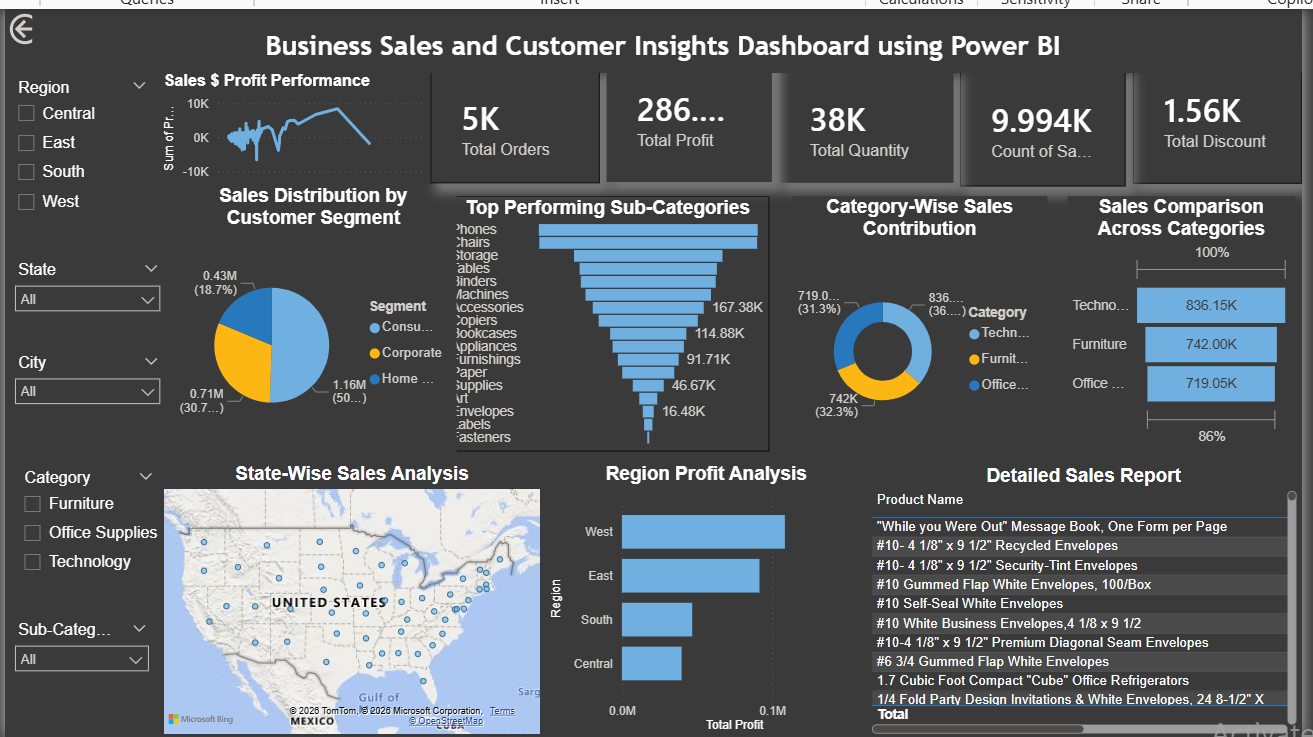

This screenshot's page, from the dashboard's own definition file:
{"tool":"powerbi","page":{"name":"Page 2","canvas":[1280,720],"ordinal":0},"visuals":[{"type":"slicer","fields":{"Values":["Sample - Superstore (2).State"]},"box":[0,243.3,163.3,91.7],"z":1000},{"type":"actionButton","box":[0,0,100,40],"z":2000},{"type":"slicer","fields":{"Values":["Sample - Superstore (2).City"]},"box":[0,335,163.3,66.7],"z":3000},{"type":"slicer","fields":{"Values":["Sample - Superstore (2).Category"]},"box":[6.7,448.3,151.7,121.7],"z":4000},{"type":"slicer","fields":{"Values":["Sample - Superstore (2).Sub-Category"]},"box":[0,598.3,151.7,100],"z":5000},{"type":"funnel","title":"Top Performing Sub-Categories","fields":{"Category":["Sample - Superstore (2).Sub-Category"],"Y":["Sum(Sample - Superstore (2).Sales)"]},"box":[435,185,320,251.7],"z":7000},{"type":"map","title":"State-Wise Sales Analysis","fields":{"Category":["Sample - Superstore (2).State"]},"box":[151.7,448.3,381.7,271.7],"z":8000},{"type":"pieChart","title":"Sales Distribution by Customer Segment","fields":{"Category":["Sample - Superstore (2).Segment"],"Y":["Sum(Sample - Superstore (2).Sales)"]},"box":[163.3,173.3,283.3,275],"z":9000},{"type":"cardVisual","fields":{"Data":["Sample - Superstore (2).Total Discount"]},"box":[1113.3,45,166.7,128.3],"z":11000},{"type":"cardVisual","fields":{"Data":["CountNonNull(Sample - Superstore (2).Sales)"]},"box":[943,60,163.3,115],"z":12000},{"type":"cardVisual","fields":{"Data":["Sample - Superstore (2).Total Orders"]},"box":[420,60,166.7,111.7],"z":14000},{"type":"cardVisual","fields":{"Data":["Sample - Superstore (2).Total Quantity"]},"box":[764.3,61.7,171.7,110],"z":14001},{"type":"cardVisual","fields":{"Data":["Sample - Superstore (2).Total Profit"]},"box":[594,43.3,163.3,128.3],"z":14002},{"type":"textbox","box":[26.7,0,1253.3,63.3],"z":14003},{"type":"clusteredBarChart","title":"Region Profit Analysis","fields":{"Category":["Sample - Superstore (2).Region"],"Y":["Sample - Superstore (2).Total Profit"]},"box":[533.3,448.3,316.7,270],"z":14005},{"type":"donutChart","title":"Category-Wise Sales Contribution ","fields":{"Category":["Sample - Superstore (2).Category"],"Y":["Sample - Superstore (2).Total Sales"]},"box":[776.7,185,251.7,265],"z":14006},{"type":"funnel","title":"Sales Comparison Across Categories","fields":{"Category":["Sample - Superstore (2).Category"],"Y":["Sum(Sample - Superstore (2).Sales)"]},"box":[1048.3,185,225,251.7],"z":14007},{"type":"tableEx","title":"Detailed Sales Report","fields":{"Values":["Sample - Superstore (2).Product Name","Sum(Sample - Superstore (2).Profit)","Sum(Sample - Superstore (2).Sales)","Sum(Sample - Superstore (2).Quantity)","Sum(Sample - Superstore (2).Discount)"]},"box":[850,450,430,270],"z":14008},{"type":"lineChart","title":"Sales $ Profit Performance","fields":{"Category":["Sample - Superstore (2).Sales"],"Y":["Sum(Sample - Superstore (2).Profit)"]},"box":[151.7,61.7,268.3,111.7],"z":14009},{"type":"slicer","fields":{"Values":["Sample - Superstore (2).Region"]},"box":[0,63.3,151.7,163.3],"z":14010}]}

Visuals, with their boxes on the page's 1280x720 design canvas (x1, y1, x2, y2). These are canvas units, not pixel positions in the 1313x737 screenshot, which may show the page scaled, cropped or inside an application window:
slicer - Sample - Superstore (2).State: region(0, 243, 163, 335)
actionButton: region(0, 0, 100, 40)
slicer - Sample - Superstore (2).City: region(0, 335, 163, 402)
slicer - Sample - Superstore (2).Category: region(7, 448, 158, 570)
slicer - Sample - Superstore (2).Sub-Category: region(0, 598, 152, 698)
"Top Performing Sub-Categories" funnel: region(435, 185, 755, 437)
"State-Wise Sales Analysis" map: region(152, 448, 533, 720)
"Sales Distribution by Customer Segment" pieChart: region(163, 173, 447, 448)
cardVisual - Sample - Superstore (2).Total Discount: region(1113, 45, 1280, 173)
cardVisual - CountNonNull(Sample - Superstore (2).Sales): region(943, 60, 1106, 175)
cardVisual - Sample - Superstore (2).Total Orders: region(420, 60, 587, 172)
cardVisual - Sample - Superstore (2).Total Quantity: region(764, 62, 936, 172)
cardVisual - Sample - Superstore (2).Total Profit: region(594, 43, 757, 172)
textbox: region(27, 0, 1280, 63)
"Region Profit Analysis" clusteredBarChart: region(533, 448, 850, 718)
"Category-Wise Sales Contribution " donutChart: region(777, 185, 1028, 450)
"Sales Comparison Across Categories" funnel: region(1048, 185, 1273, 437)
"Detailed Sales Report" tableEx: region(850, 450, 1280, 720)
"Sales $ Profit Performance" lineChart: region(152, 62, 420, 173)
slicer - Sample - Superstore (2).Region: region(0, 63, 152, 227)
